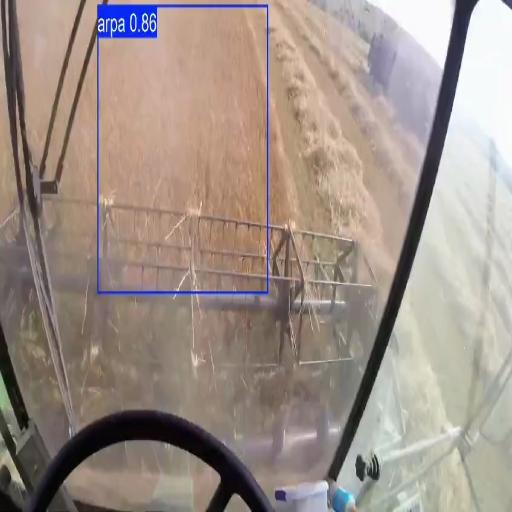arpa: (99, 9, 264, 219), (268, 50, 304, 220), (64, 75, 95, 193)
